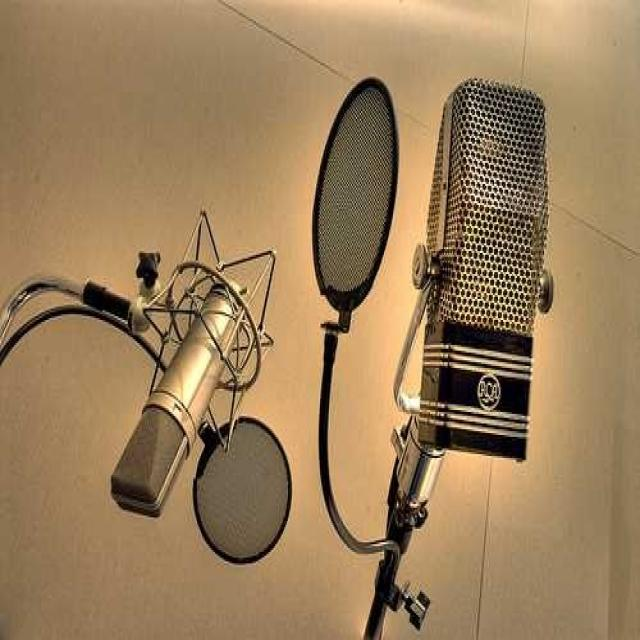microphone: (410, 74, 564, 487), (110, 262, 243, 536)
